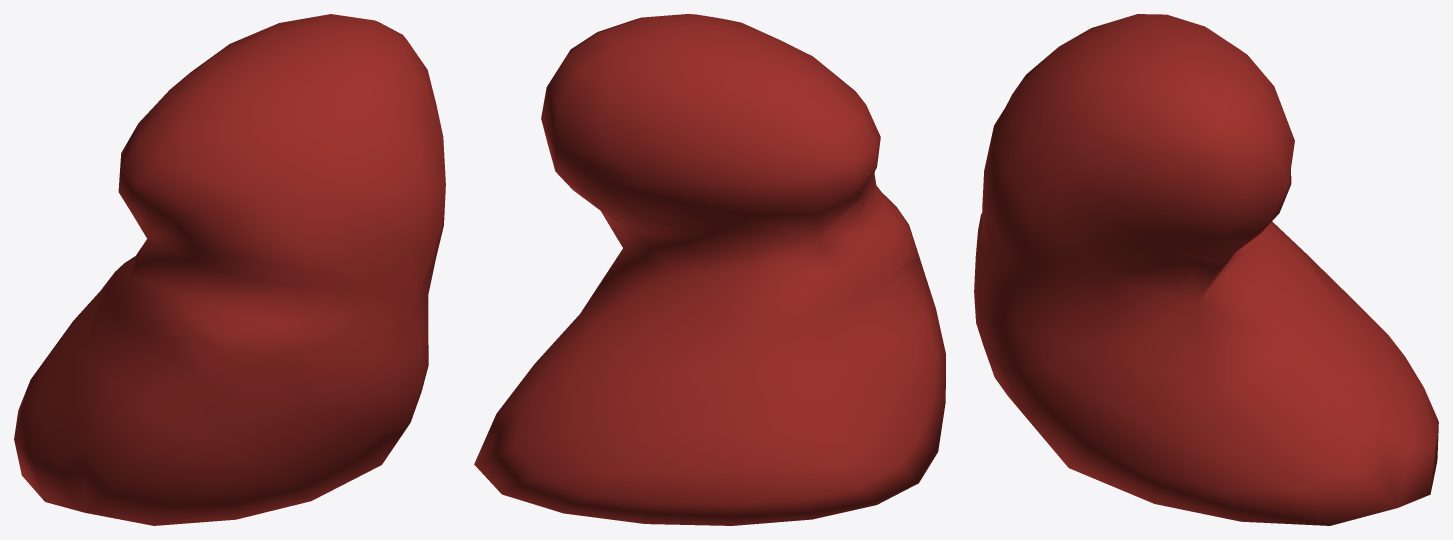
The model's file is Organic_Blob_008.fbx.
The picture shows the model from 3 angles, left to right: view 1: azimuth 30°, elevation 25°; view 2: azimuth 150°, elevation 25°; view 3: azimuth 270°, elevation 25°; orthographic projection. The views are drawn at different scales.
Visible parts, largest first — view 1: Cube.003; view 2: Cube.003; view 3: Cube.003.
Part boxes in pixels (box(x1,y1,x2,y2)): Cube.003: box(14, 14, 445, 525); Cube.003: box(474, 14, 945, 525); Cube.003: box(974, 14, 1438, 525).
Bounding box in the file's own units: 472 × 492 × 486.
